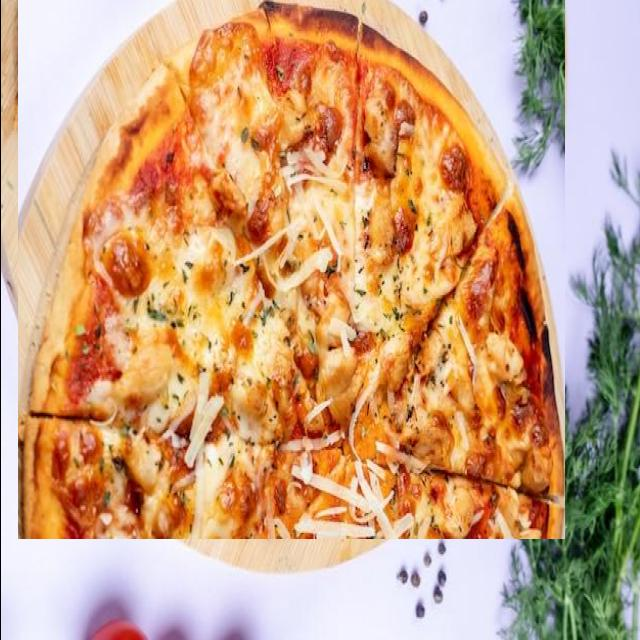basil: (501, 150, 640, 640)
pizza: (17, 0, 564, 539)
